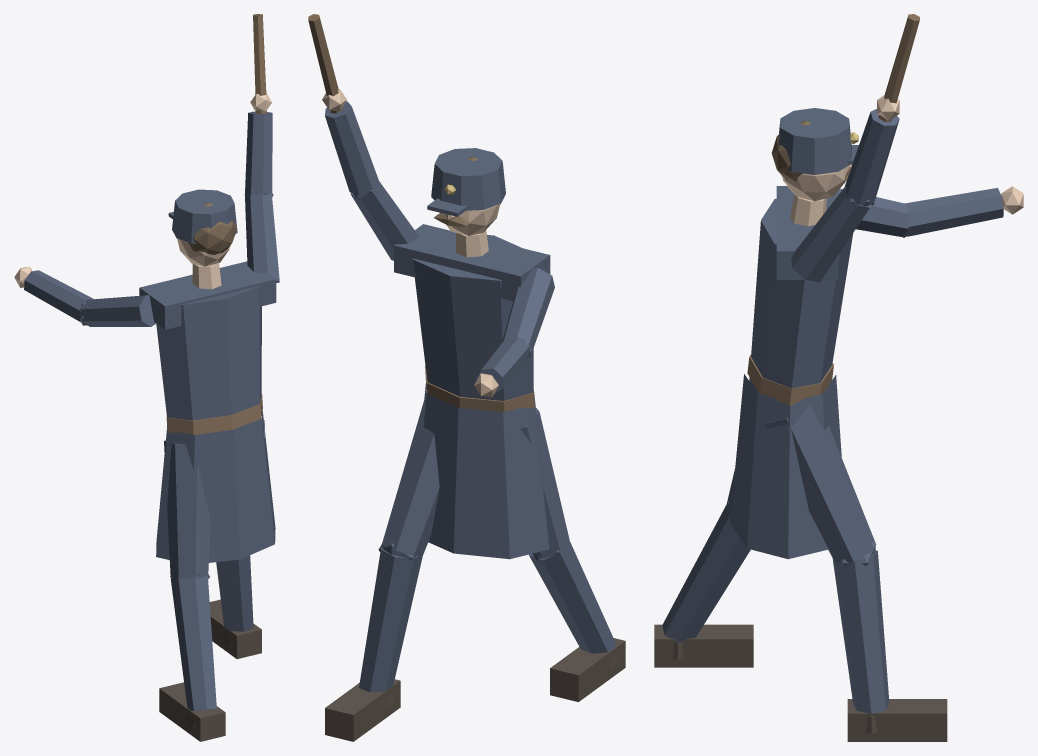
The model's file is police_constable_baton_raised.glb.
The picture shows the model from 3 angles, left to right: view 1: azimuth 30°, elevation 25°; view 2: azimuth 150°, elevation 25°; view 3: azimuth 270°, elevation 25°; orthographic projection. The views are drawn at different scales.
Visible parts, largest first — view 1: police_blue, boot, skin, leather, hair, wood_dk; view 2: police_blue, boot, skin, leather, wood_dk; view 3: police_blue, boot, skin, leather, wood_dk, hair.
Part boxes in pixels (x1,y1,x2,y2): police_blue: (24,111,279,710); boot: (159,599,261,741); skin: (14,92,271,289); leather: (166,394,262,434); hair: (188,203,236,254); wood_dk: (253,14,266,113); police_blue: (325,101,616,692); boot: (325,638,625,741); skin: (322,89,500,397); leather: (425,366,534,411); wood_dk: (308,14,342,113); police_blue: (662,108,1003,713); boot: (654,624,947,741); skin: (782,95,1023,226); leather: (747,354,833,405); wood_dk: (878,14,919,121); hair: (771,120,850,181).
Bounding box in the file's own units: 0.7978 × 2.28 × 1.03.
